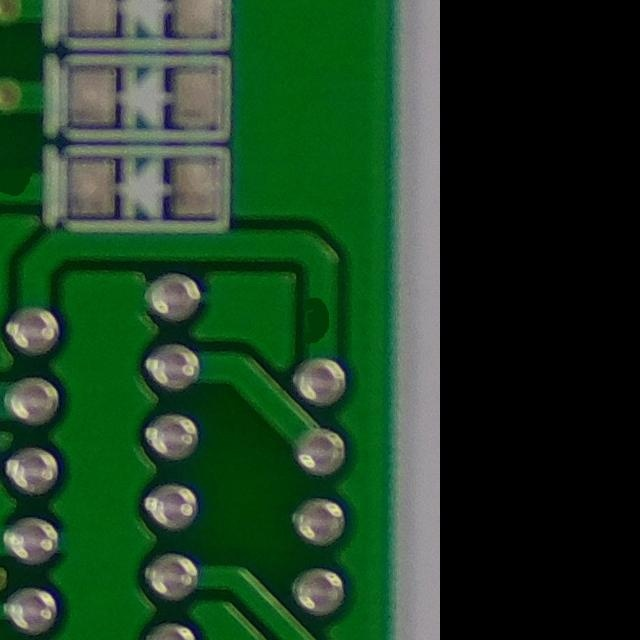mouse_bite: (296, 284, 344, 356)
